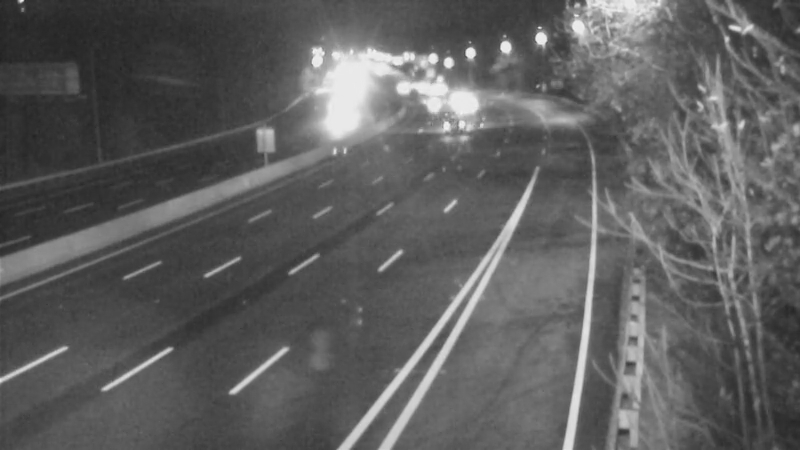vehicle: (407, 75, 457, 125), (436, 78, 486, 128), (432, 102, 482, 152)
